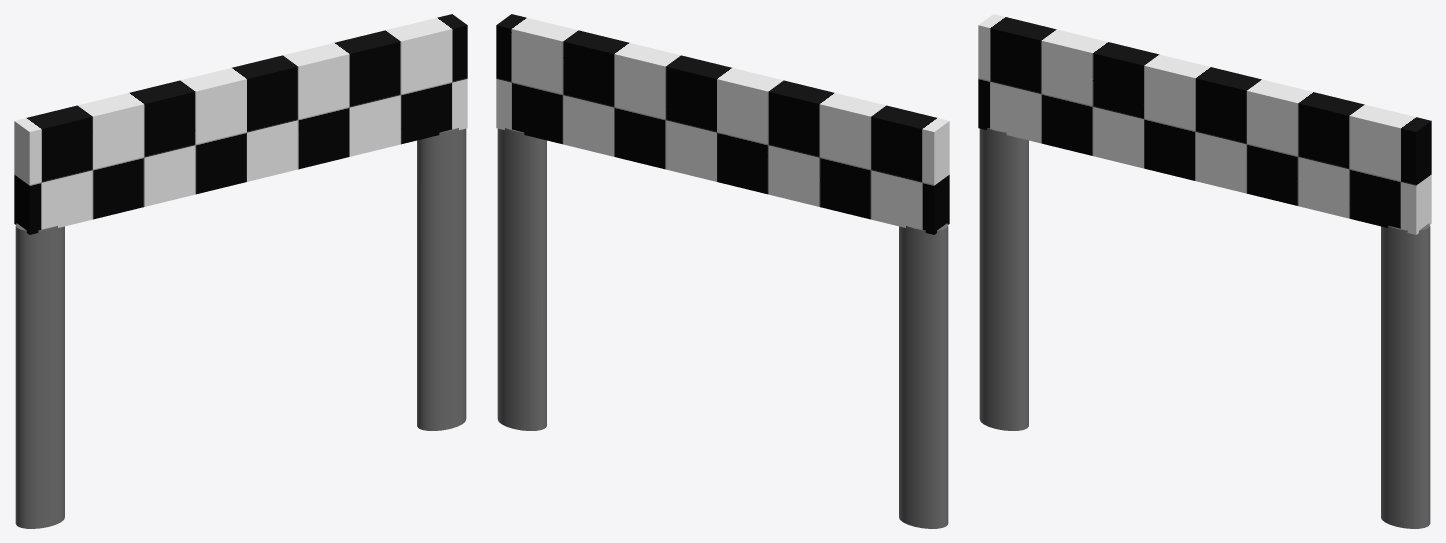
The model's file is goal.fbx.
The picture shows the model from 3 angles, left to right: view 1: azimuth 30°, elevation 25°; view 2: azimuth 150°, elevation 25°; view 3: azimuth 330°, elevation 25°; orthographic projection.
Parts seen in each view (by area): view 1: pCube2; view 2: pCube2; view 3: pCube2.
Boxes of the visible parts, x1=… form: pCube2: x1=14, y1=14, x2=467, y2=528; pCube2: x1=496, y1=14, x2=949, y2=528; pCube2: x1=978, y1=14, x2=1431, y2=528.
Size of the model in its own units: 6.84 by 5.82 by 0.4567.
Materials: 1 (1 with a texture image).
